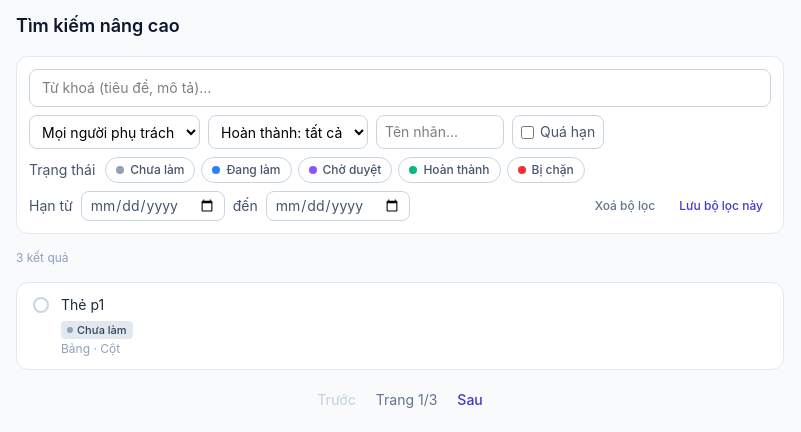
SearchPage - danh sách kết quả cuộn riêng › danh sách kết quả là vùng cuộn có tên (bấm Tab tới được); sang trang mới thì tự cuộn về đầu
Click the button "Sau" at (470, 400), box [449, 386, 491, 414]
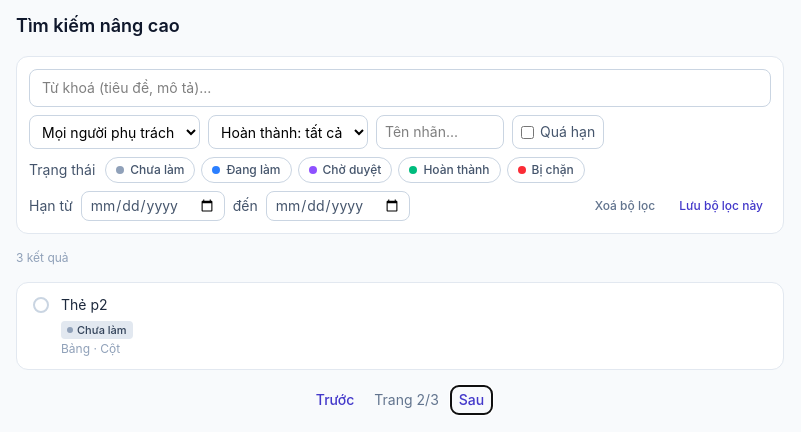
Now the text "Thẻ p2" is shown, box [61, 296, 108, 313]
